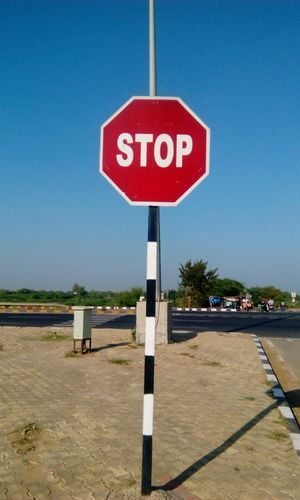stop: (101, 101, 209, 205)
